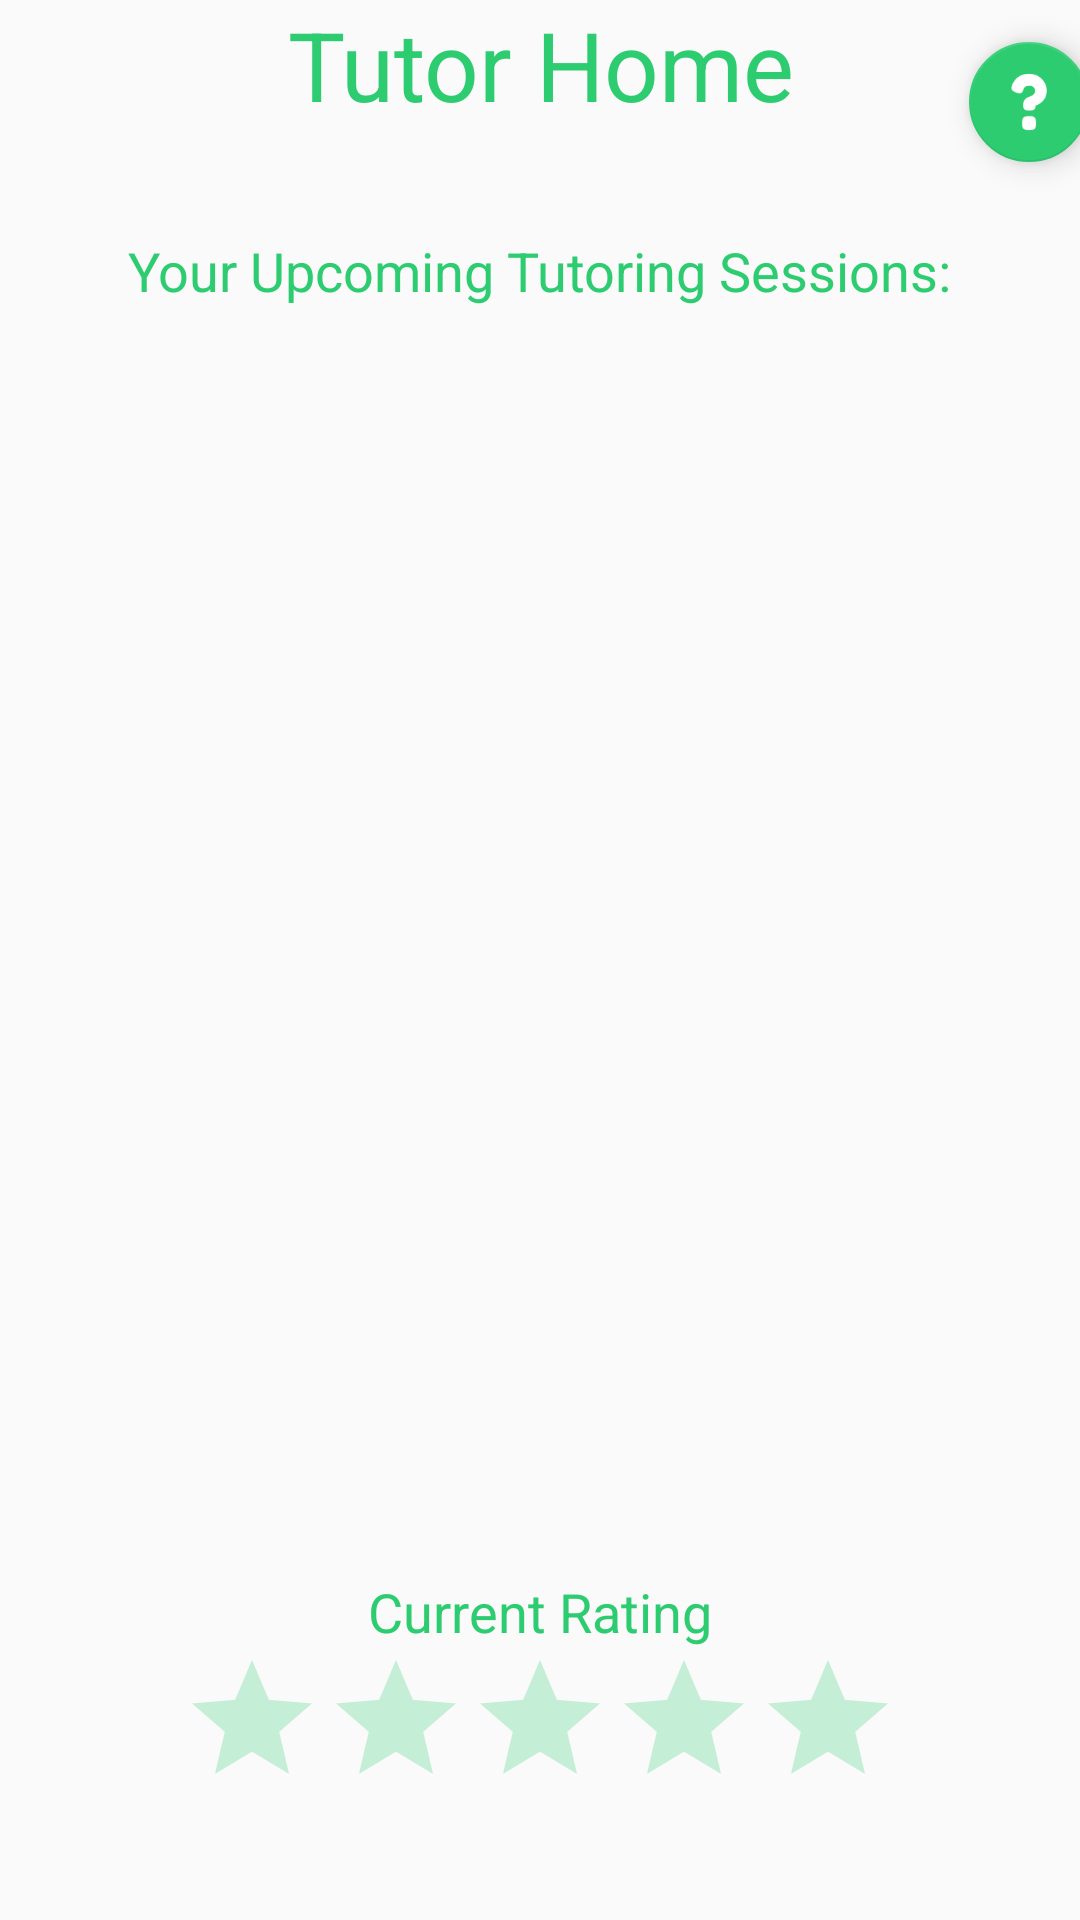

Icon click points for this 1080x1920 phone screenshot, format (x,y):
help: (1024,102)
